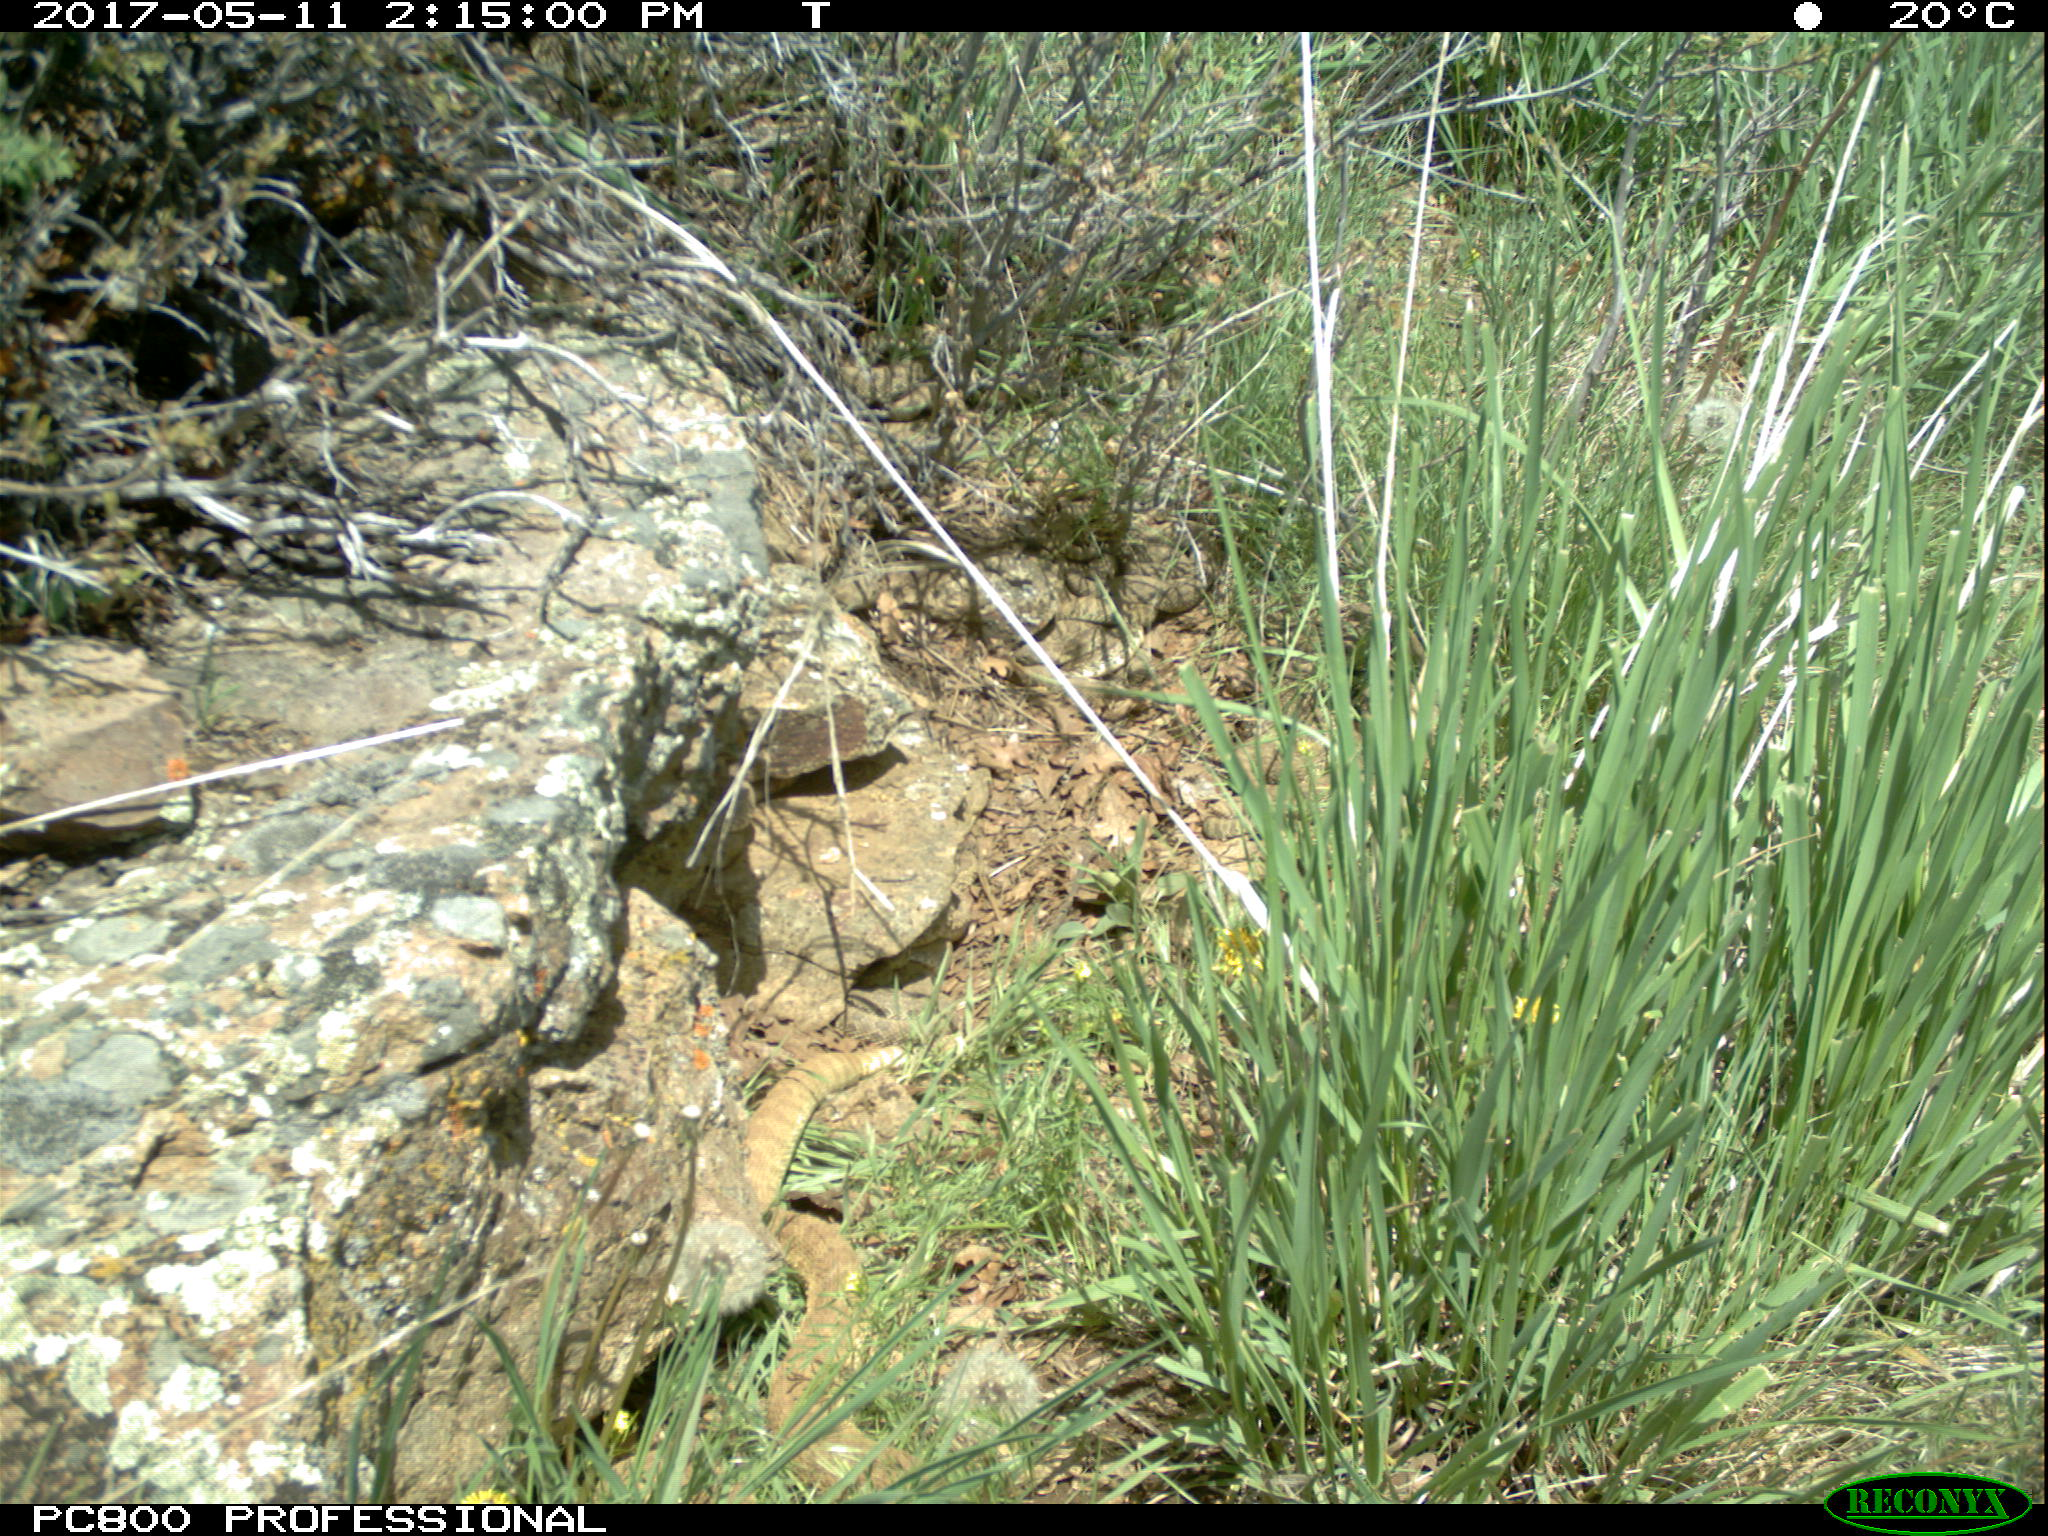snake: (761, 1212, 919, 1492), (743, 1046, 908, 1220), (1047, 563, 1214, 682), (1193, 792, 1269, 844)
